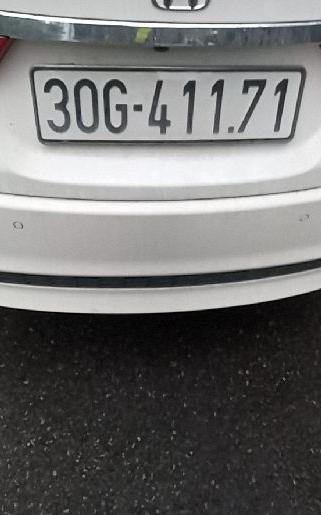Plate-iWeP: (28, 65, 305, 146)
